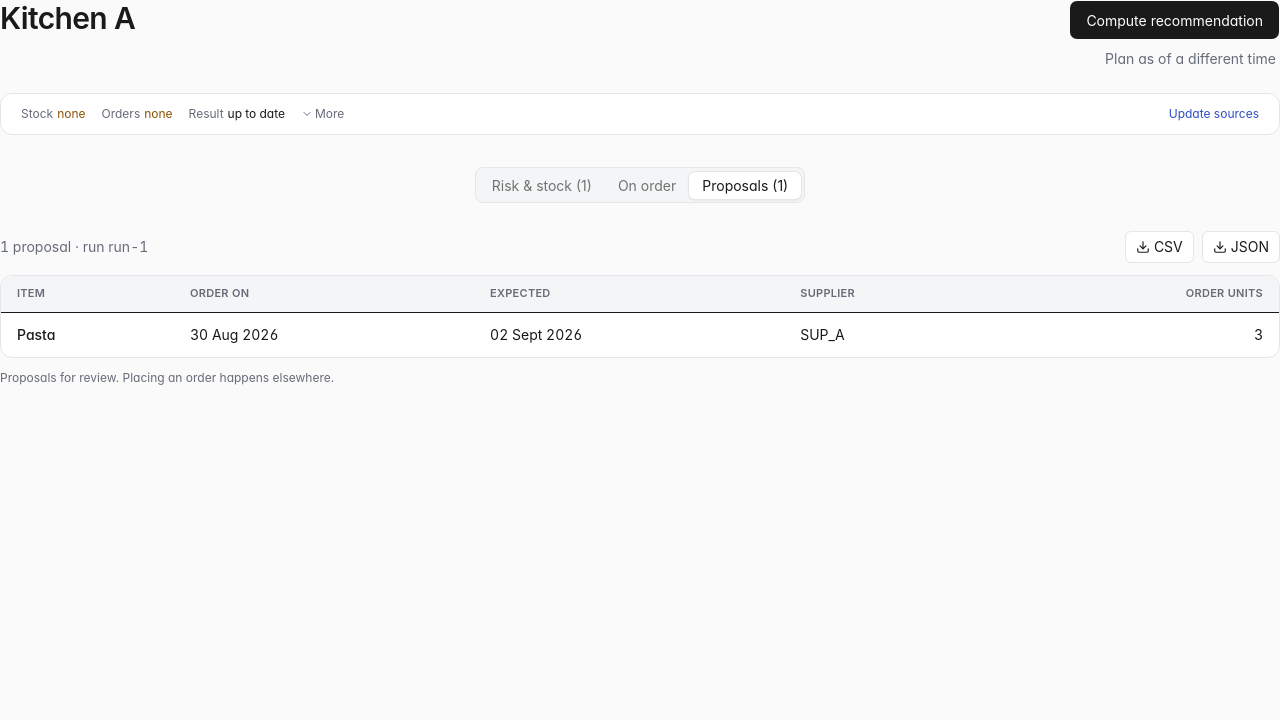
Test: the derivation drawer › says an absent cap is absent rather than showing a zero
// A button, not a row click: the derivation must be keyboard reachable.
Click the button "Pasta". click: (36, 334)
box: [13, 320, 59, 348]
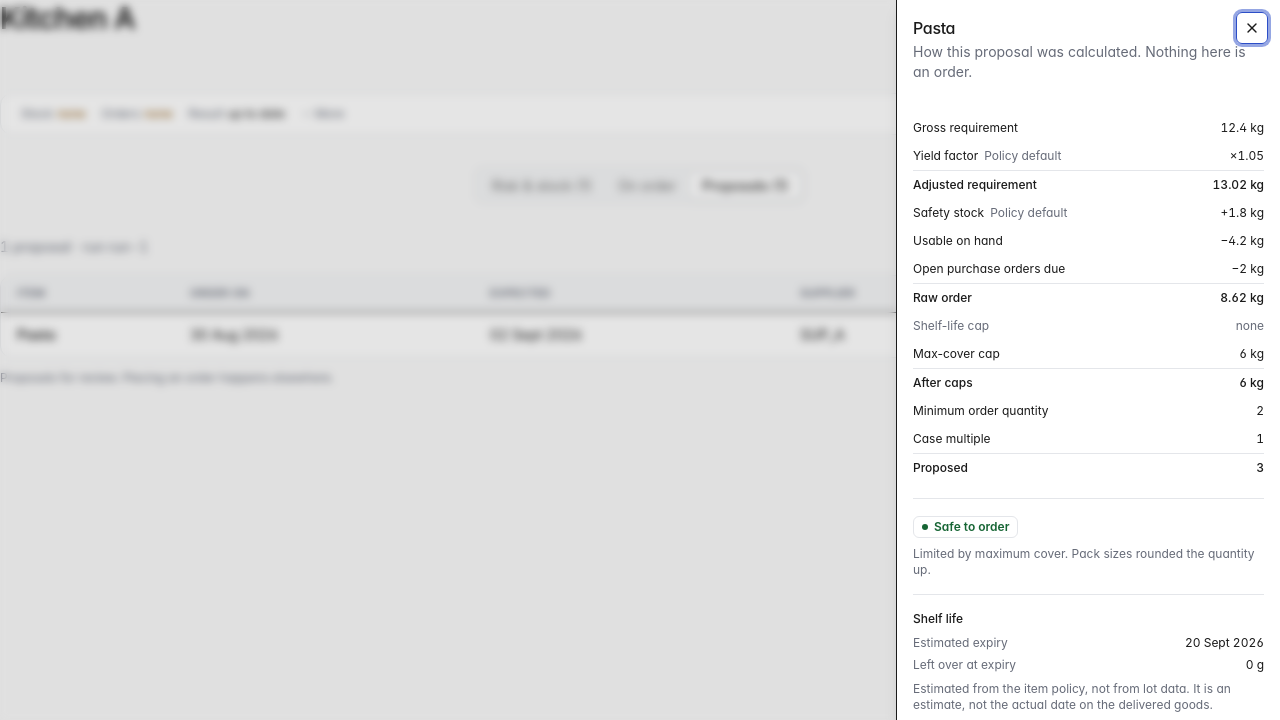
Expected: the list item "Shelf-life cap" shows "none", [1236, 318, 1264, 333]
